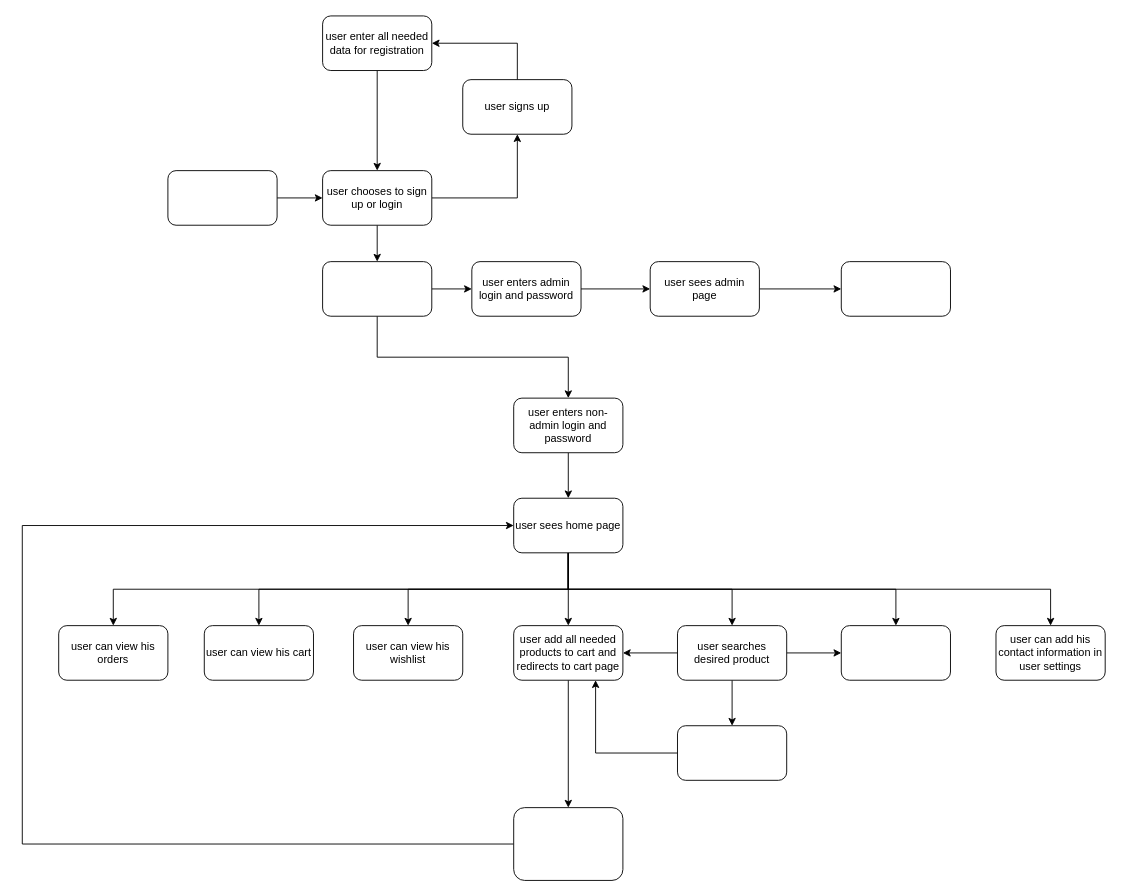
Some shapes in this 1121 by 896 pixel diagram are drawn without their labels. The centre of each missing label's shape, as x and y in pixels:
admin can create new brand, type and product: point 895,288
user add desired product to wishlist: point 895,652
user clicks on button "order": point 568,843
user logs in: point 377,288
user sees log in page: point 222,197
user views detailed information about desired product: point 732,752
